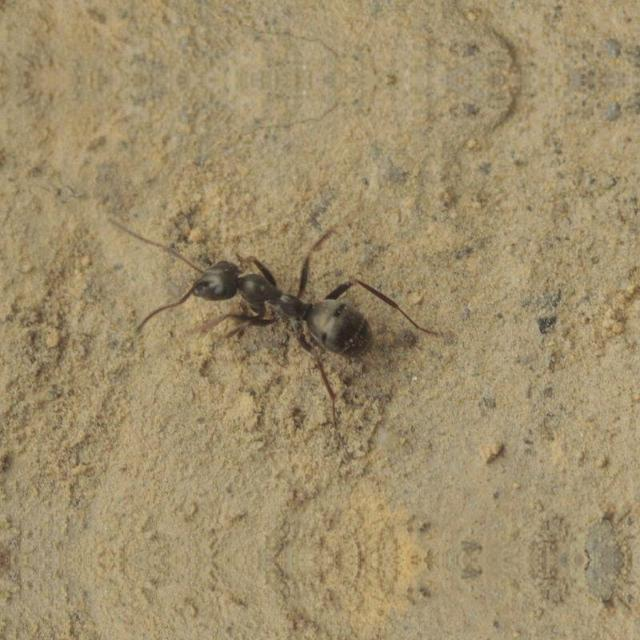Formica: (148, 216, 400, 362)
